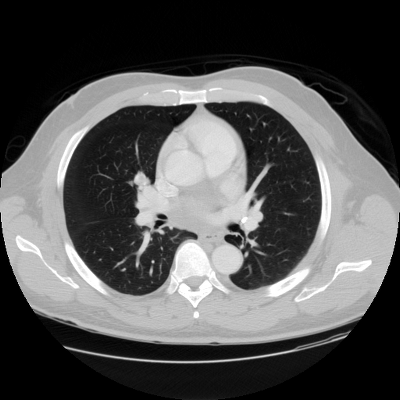nodule: (134, 173, 148, 187)
